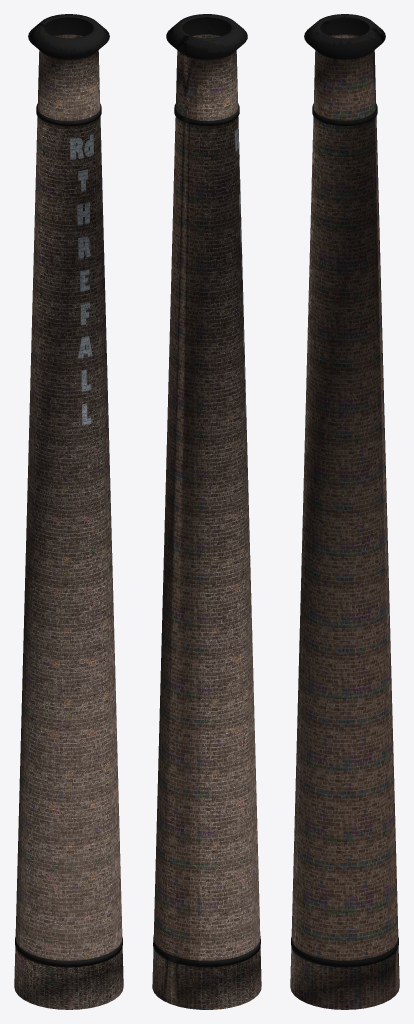
The picture shows the model from 3 angles, left to right: view 1: azimuth 90°, elevation 25°; view 2: azimuth 150°, elevation 25°; view 3: azimuth 270°, elevation 25°; orthographic projection.
Parts seen in each view (by area): view 1: Cylinder; view 2: Cylinder; view 3: Cylinder.
Part boxes in pixels (<box>): Cylinder: <box>14,14,123,1009</box>; Cylinder: <box>152,14,261,1009</box>; Cylinder: <box>290,14,399,1009</box>.
Size of the model in its own units: 3.8 by 36.76 by 3.8.
1 material, 1 textured.
